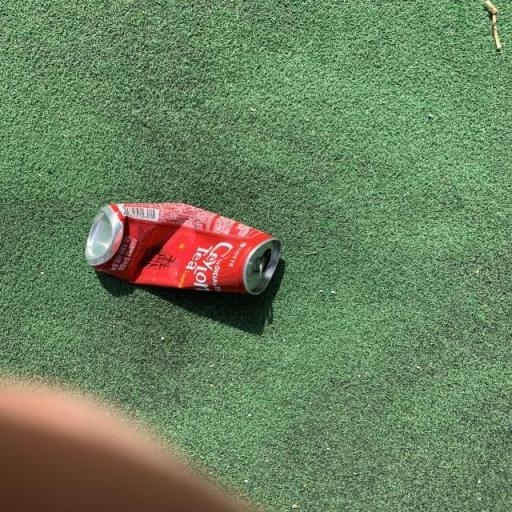metal: (71, 183, 308, 319)
